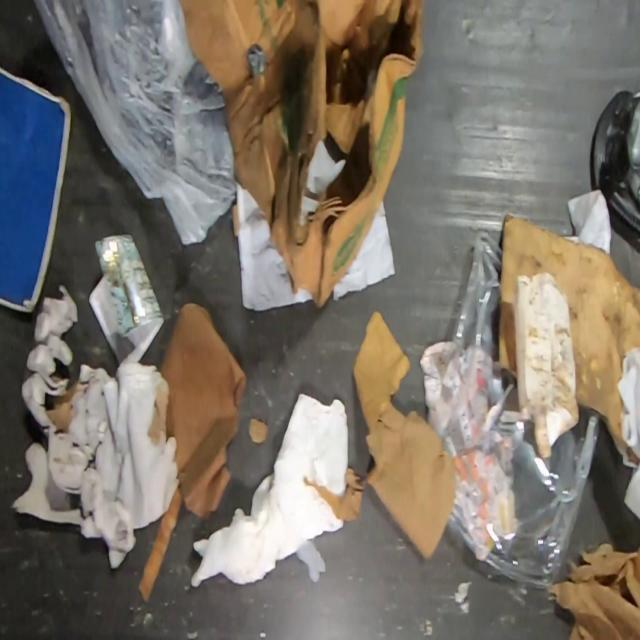cardboard: (178, 0, 424, 311), (44, 301, 247, 604), (302, 310, 454, 561), (498, 214, 640, 439), (0, 63, 72, 320), (246, 416, 270, 444)
rigid_plastic: (426, 228, 600, 595), (591, 88, 640, 253)
soft_plastic: (30, 0, 237, 247)
